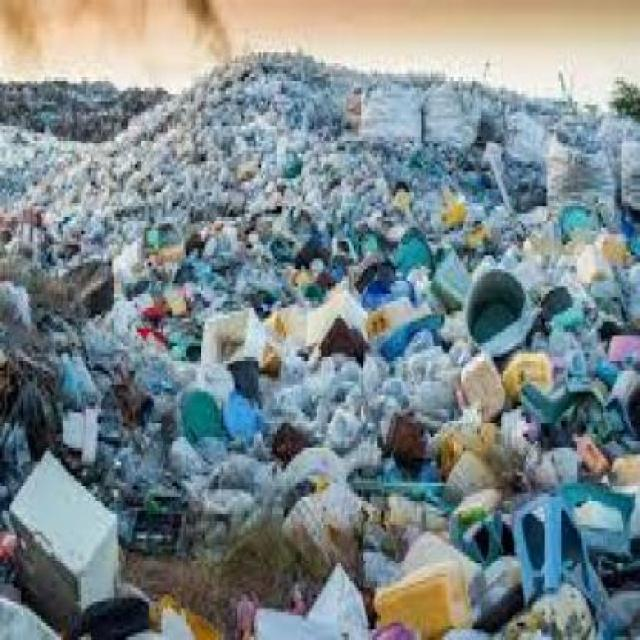garbage: (0, 77, 637, 636)
